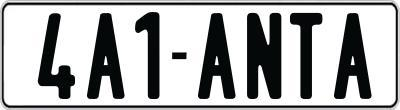1: (132, 12, 159, 104)
4: (38, 13, 75, 104)
A: (334, 13, 374, 103), (84, 12, 123, 100), (195, 11, 233, 98)
N: (245, 13, 282, 101)
T: (289, 10, 326, 101)
